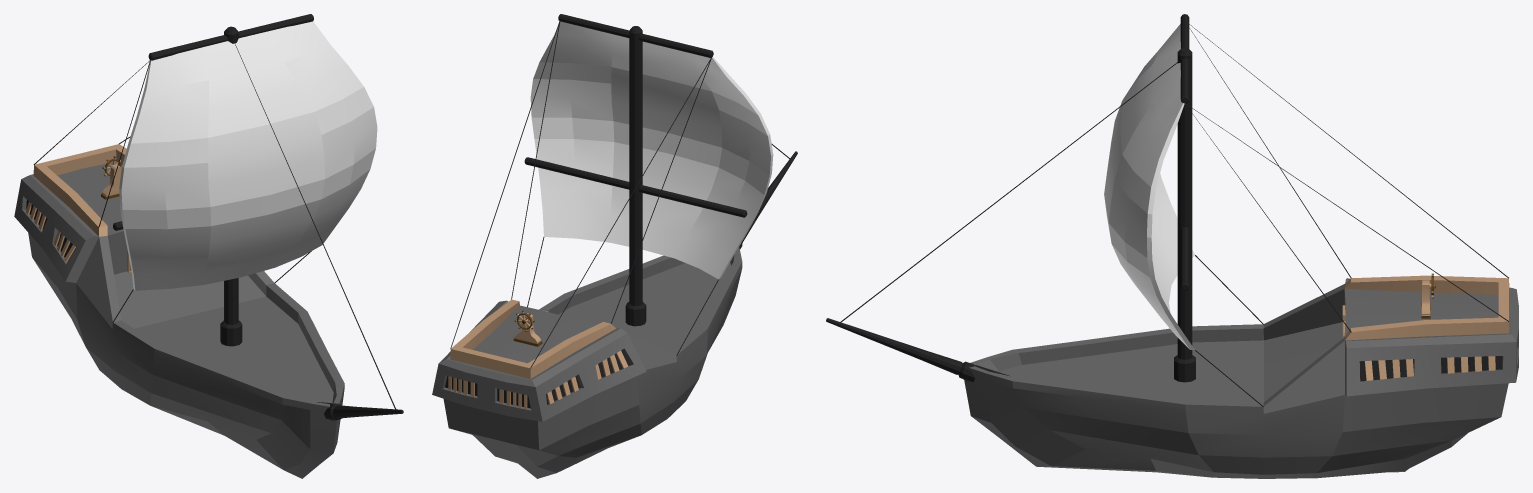
The model's file is ship.glb.
The picture shows the model from 3 angles, left to right: view 1: azimuth 30°, elevation 25°; view 2: azimuth 150°, elevation 25°; view 3: azimuth 270°, elevation 25°; orthographic projection. The views are drawn at different scales.
Visible parts, largest first — view 1: ship; view 2: ship; view 3: ship.
Boxes of the visible parts, <box> form: ship: <box>14,14,403,478</box>; ship: <box>432,14,797,478</box>; ship: <box>826,14,1518,478</box>.
Size of the model in its own units: 9.52 by 14.36 by 21.32.
Materials: 1 (1 with a texture image).
